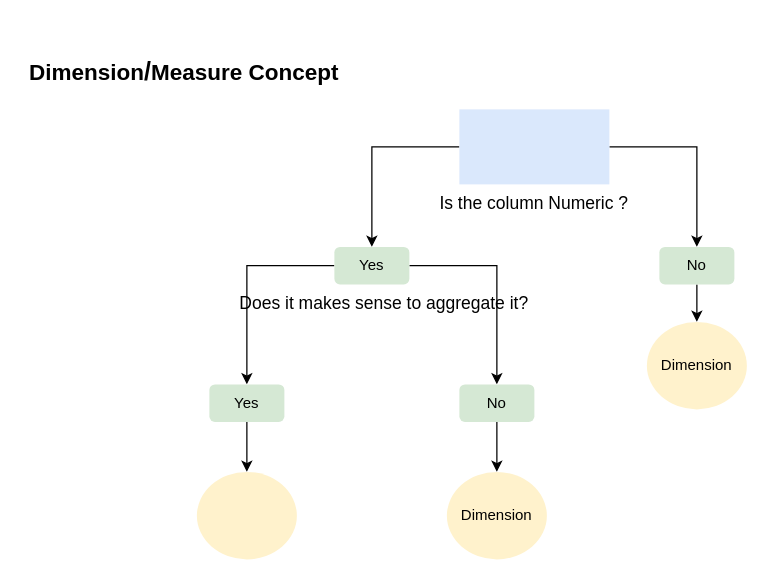
The diagram is 768 pixels wide and 580 high, and some of its shapes have lost their labels. Here are the shapes that lost their labels. From the top down, the centre of each, then its label:
the point at 534,146: Column
the point at 246,515: Measure
